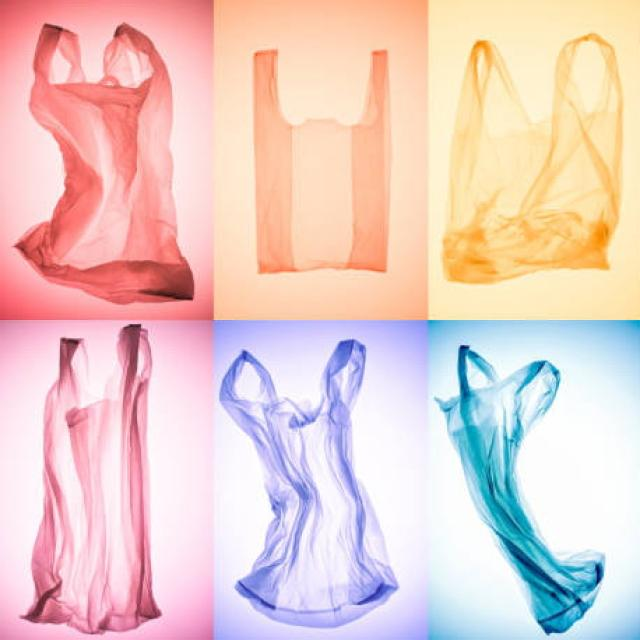Single-layer Plastic: (220, 340, 398, 626), (15, 24, 194, 303), (435, 345, 605, 634), (442, 35, 622, 282), (24, 325, 161, 633), (254, 51, 389, 273)
